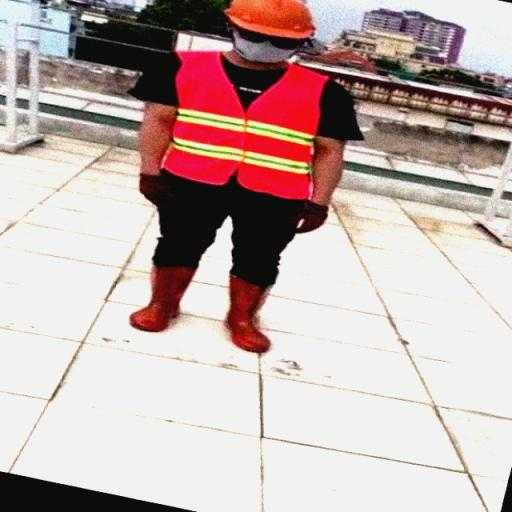Person: (117, 0, 356, 383)
boots: (128, 264, 194, 336), (225, 270, 277, 356)
gloves: (292, 201, 328, 242), (135, 171, 170, 210)
goggles: (232, 26, 312, 52)
helmet: (219, 0, 314, 42)
vest: (166, 51, 337, 207)
